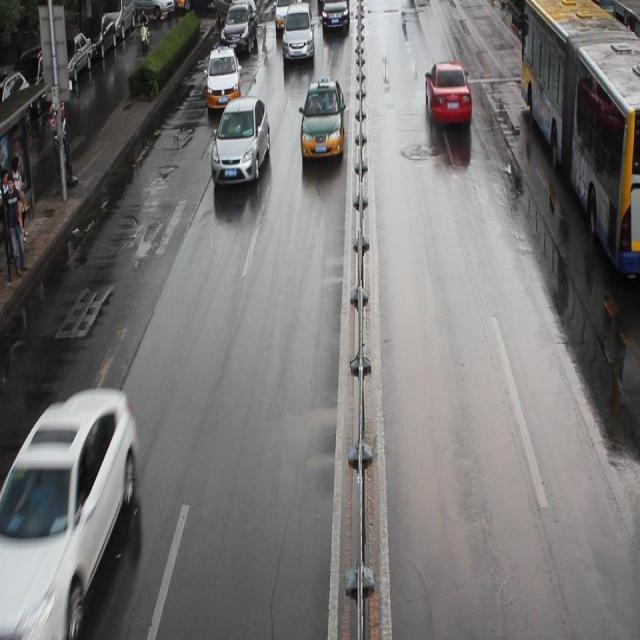car: (1, 388, 139, 630), (210, 96, 269, 186), (300, 81, 344, 158), (424, 60, 471, 126), (204, 46, 241, 110), (219, 1, 258, 51), (212, 1, 257, 19), (321, 1, 349, 29), (273, 1, 301, 27)
truck: (281, 1, 314, 61)
van: (520, 2, 640, 272)
